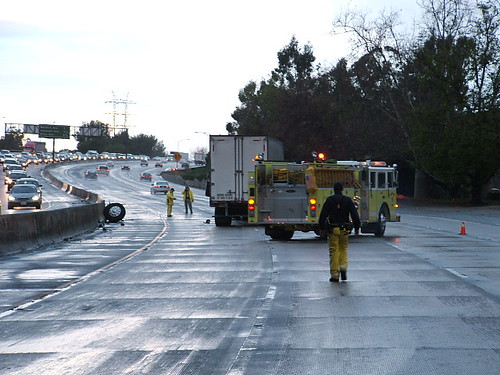firefighter: (323, 184, 356, 288), (179, 183, 198, 220), (168, 185, 179, 214)
firetruck: (263, 158, 396, 232)
road: (19, 158, 491, 369)
sky: (6, 1, 344, 127)
vegetation: (226, 54, 500, 181)
